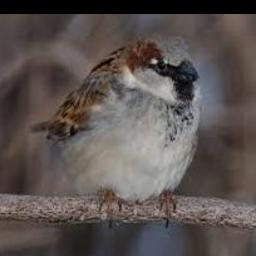Sparrow: (26, 34, 201, 228)
